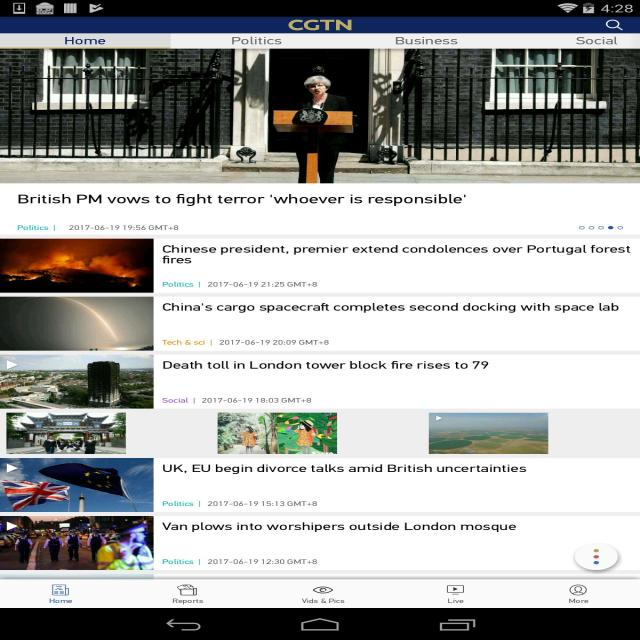button: (172, 34, 370, 48), (2, 34, 170, 50), (368, 35, 533, 47), (29, 578, 92, 608), (157, 578, 215, 609), (296, 578, 352, 608), (534, 34, 640, 48), (432, 580, 482, 608), (576, 543, 622, 572), (557, 579, 601, 609), (598, 17, 632, 32)
heading: (16, 192, 468, 208), (288, 19, 354, 33)
image: (1, 50, 640, 183), (0, 457, 154, 513), (4, 352, 154, 408), (1, 296, 152, 350), (2, 239, 153, 291), (1, 518, 152, 569), (7, 411, 126, 454), (218, 413, 336, 454), (433, 413, 549, 454)
text: (160, 244, 633, 268), (159, 300, 620, 316), (161, 357, 491, 372), (161, 462, 529, 475), (15, 224, 183, 236), (162, 279, 324, 290), (159, 396, 318, 407), (160, 338, 330, 348), (163, 558, 323, 567), (162, 501, 323, 508)
